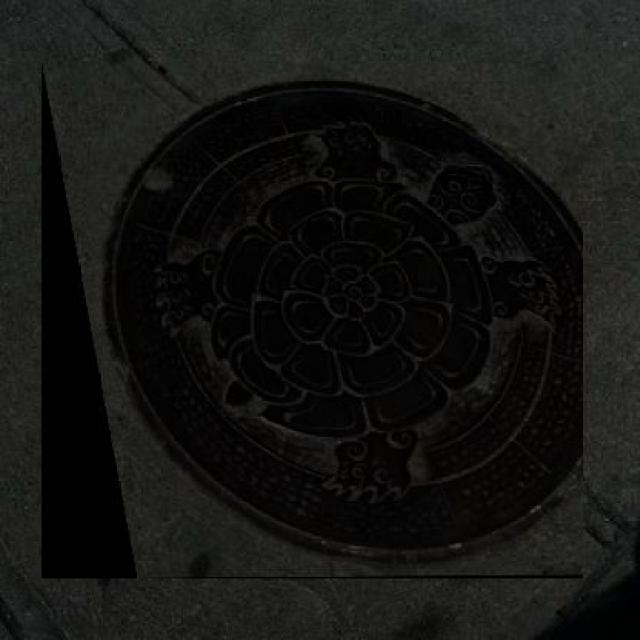Manhole: (42, 63, 584, 579)
